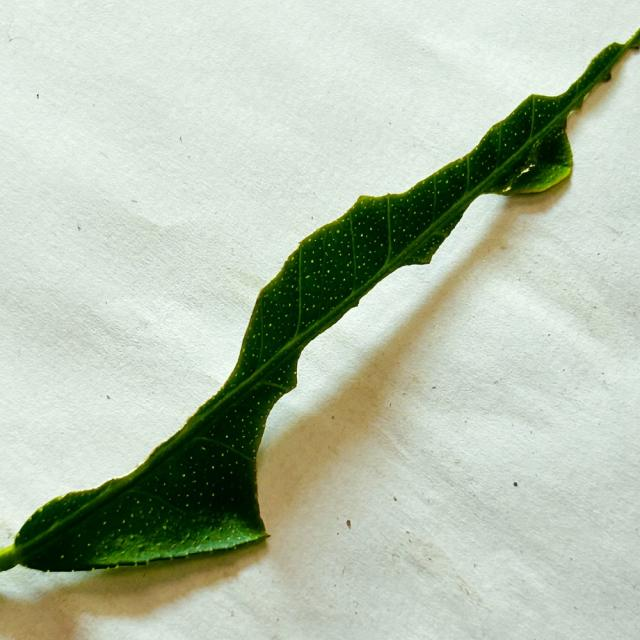Deficiency Leaf: (262, 194, 545, 529), (56, 303, 252, 491), (561, 48, 639, 176)
Lemon: (0, 30, 639, 571)
